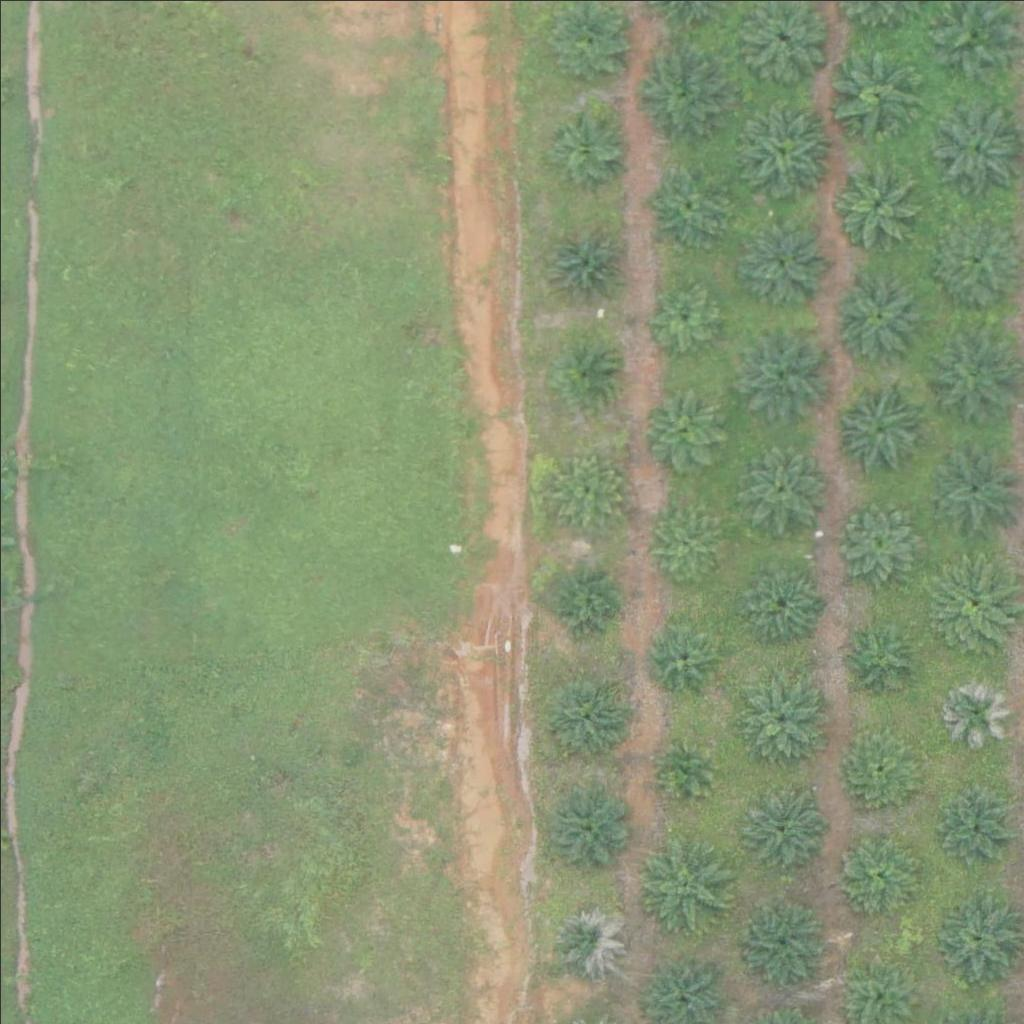Kelapa_Sawit: (919, 554, 1019, 655), (736, 320, 836, 421), (831, 489, 931, 590), (831, 379, 931, 480), (630, 832, 730, 932), (633, 40, 733, 140), (733, 101, 833, 201), (827, 44, 927, 144), (922, 324, 1022, 424), (835, 721, 923, 810), (733, 554, 821, 643), (834, 615, 922, 703), (543, 97, 631, 185), (934, 890, 1022, 978), (832, 824, 920, 912), (544, 780, 632, 868), (543, 669, 631, 757), (640, 160, 728, 248), (738, 441, 826, 529), (739, 216, 827, 304), (643, 388, 730, 476), (540, 216, 627, 304), (737, 895, 824, 983), (738, 779, 825, 867), (737, 669, 824, 757), (835, 268, 922, 356), (832, 157, 919, 245), (932, 208, 1019, 296), (547, 901, 622, 977), (642, 617, 717, 692), (644, 275, 719, 350), (552, 454, 627, 529), (545, 562, 620, 637), (938, 785, 1013, 860), (936, 671, 1011, 746), (650, 506, 725, 581), (559, 343, 622, 406), (652, 734, 715, 797)
